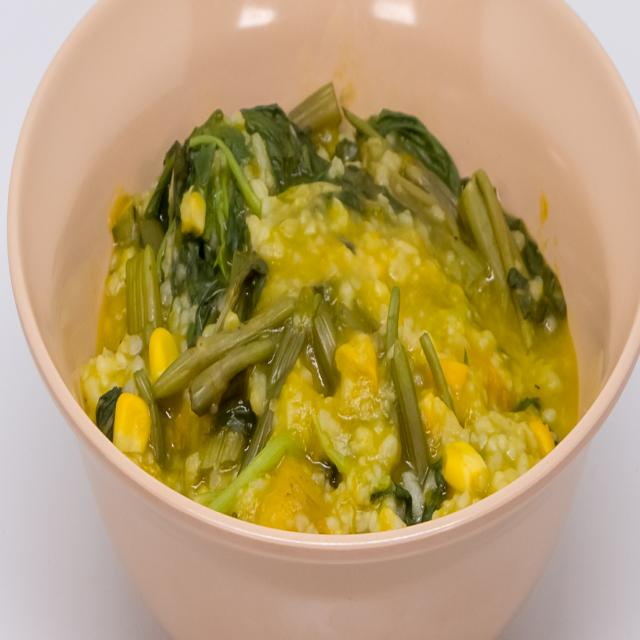Bubur-Manado: (69, 47, 598, 569)
